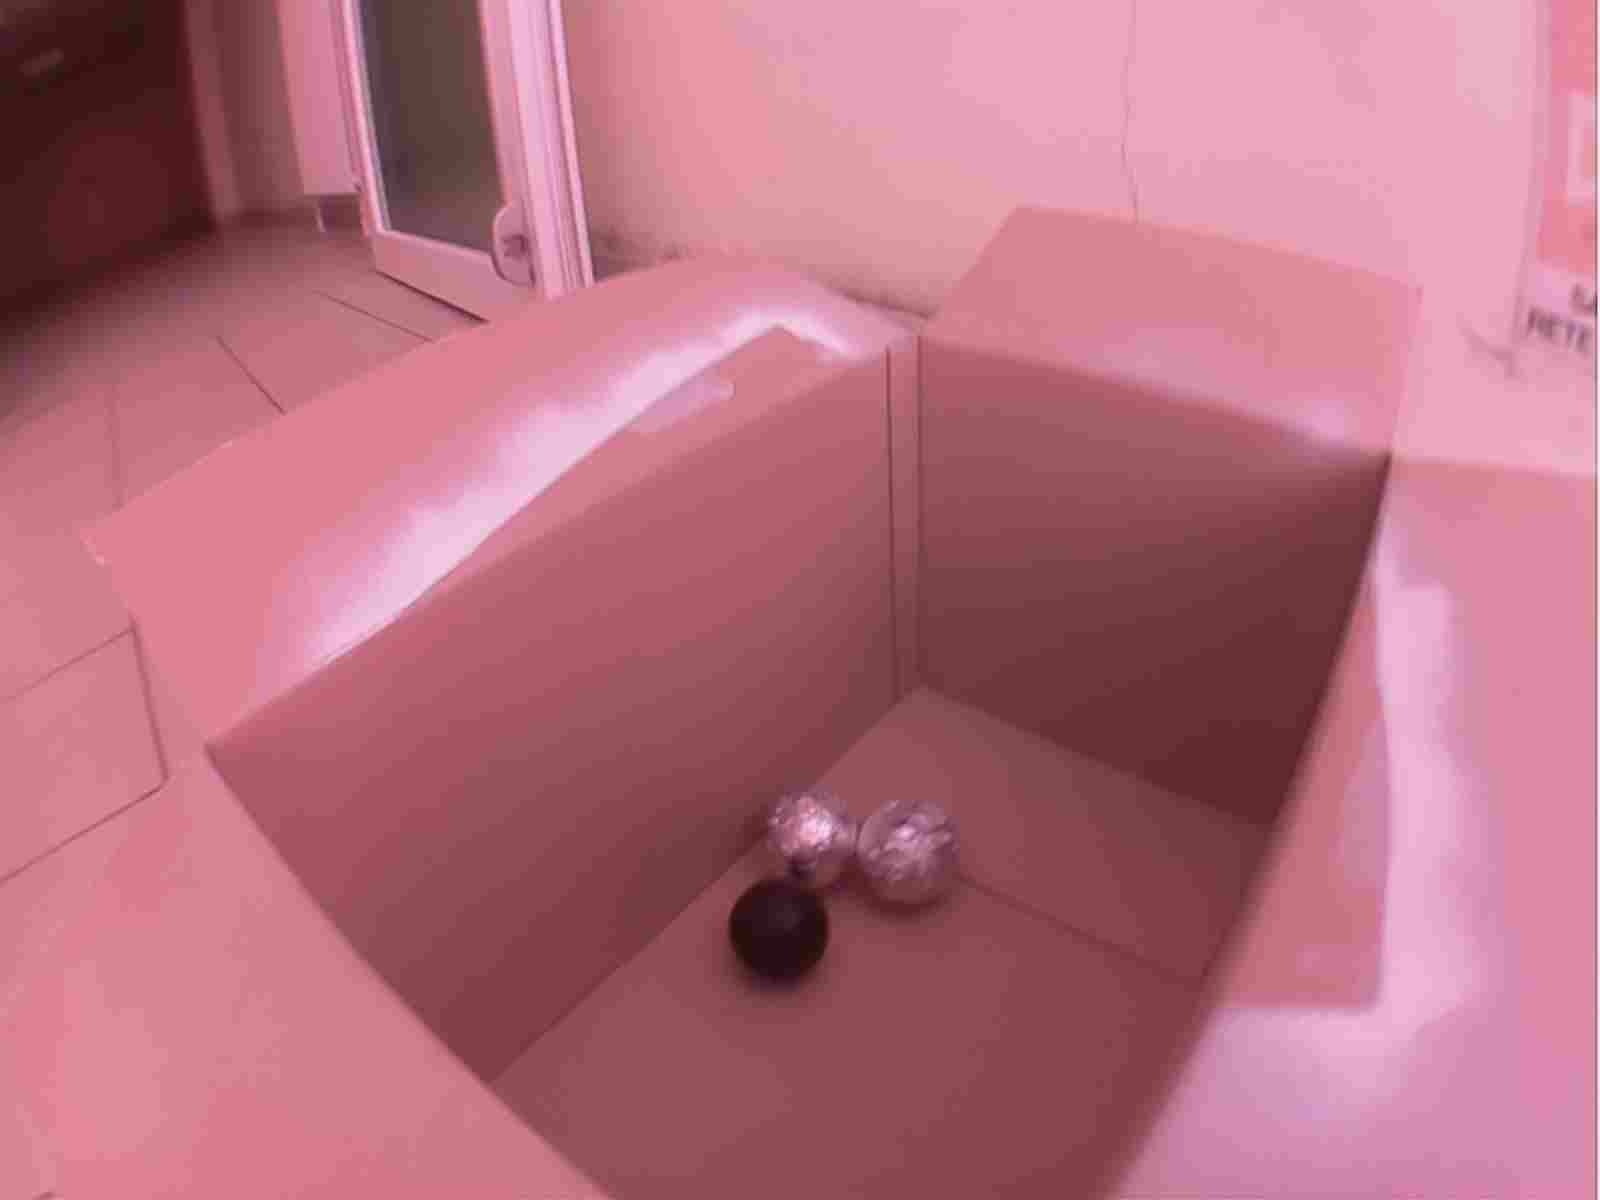bianca: (855, 795, 963, 904), (752, 789, 862, 886)
nera: (724, 876, 835, 988)
